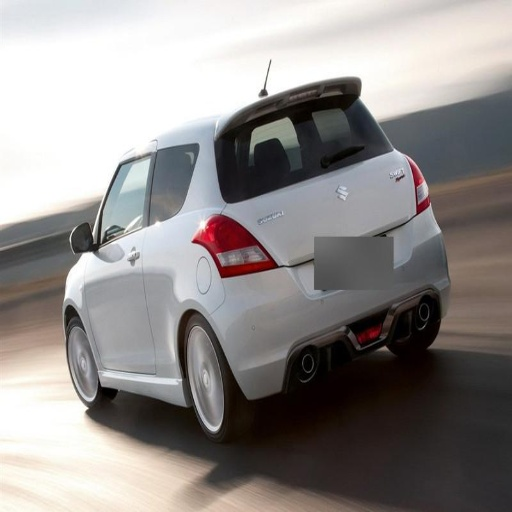back_bumper: (198, 211, 448, 416)
back_glass: (217, 104, 390, 201)
back_left_door: (130, 155, 173, 377)
tailgate: (237, 151, 409, 274)
trunk: (306, 164, 413, 290), (247, 179, 336, 235)
